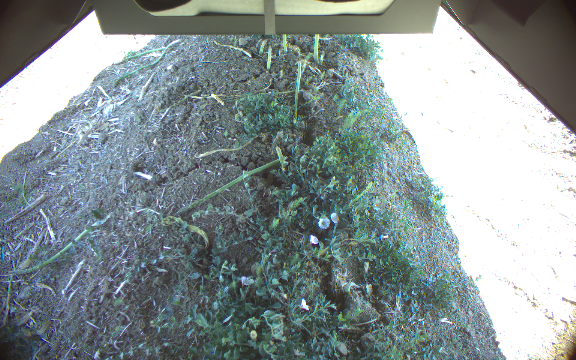aspa: (292, 60, 303, 118), (312, 34, 321, 63), (258, 38, 268, 55), (281, 34, 289, 53), (267, 46, 273, 69)
